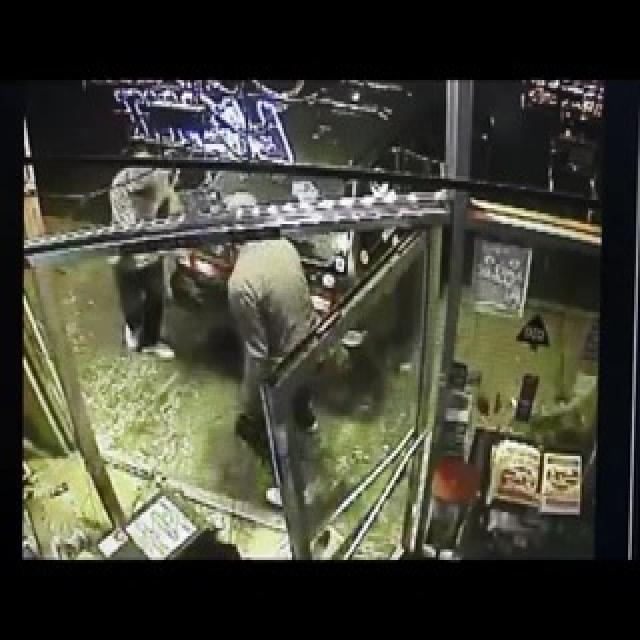thief: (134, 119, 358, 354)
